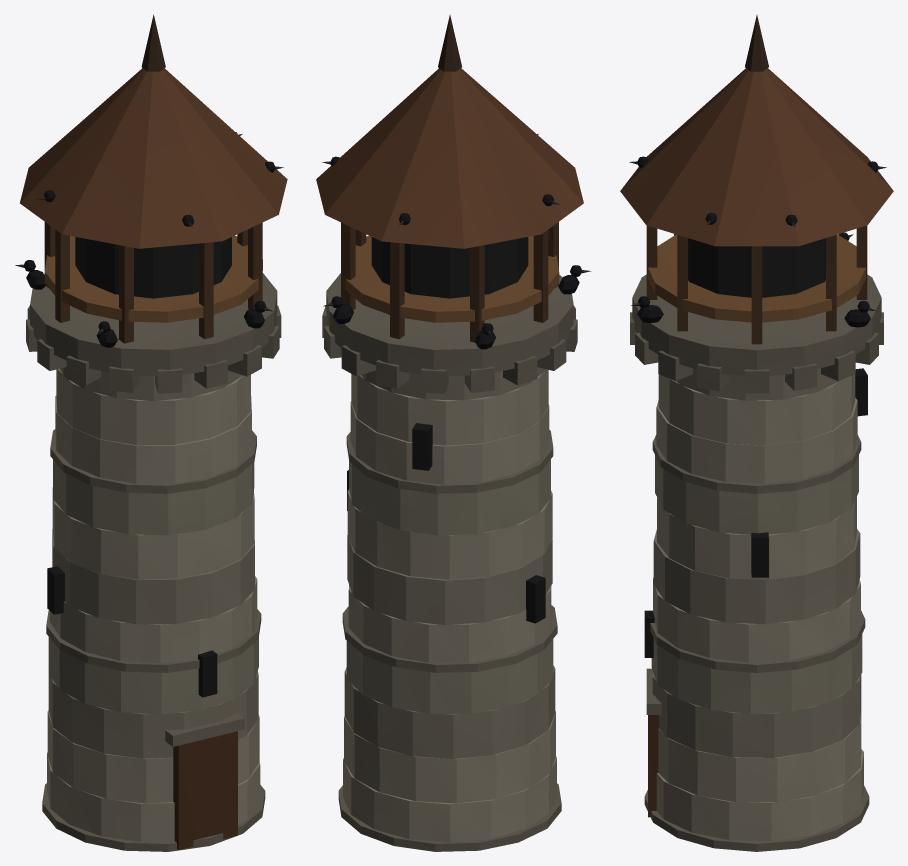
File: rookery.glb
3 views of the same model, side by side, from view 1: azimuth 30°, elevation 25°; view 2: azimuth 150°, elevation 25°; view 3: azimuth 270°, elevation 25° (orthographic).
Parts seen in each view (by area): view 1: rookery; view 2: rookery; view 3: rookery.
Part boxes in pixels (box(x1,y1,x2,y2)): rookery: box(15, 14, 287, 851); rookery: box(316, 14, 591, 851); rookery: box(620, 15, 893, 851).
Bounding box in the file's own units: 5.35 × 17.84 × 5.6.
